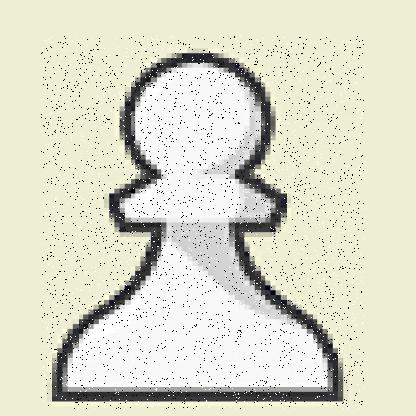White Pawn: (41, 37, 365, 411)
